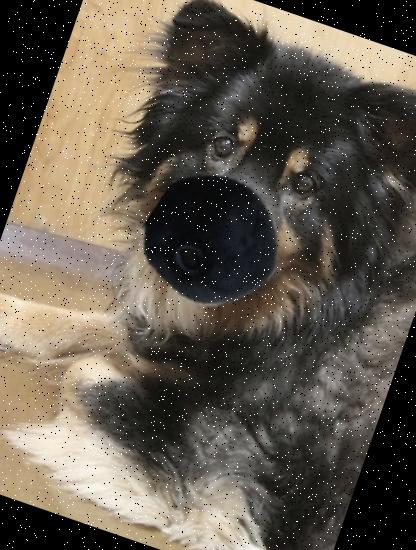Blueberry: (128, 154, 300, 326)
